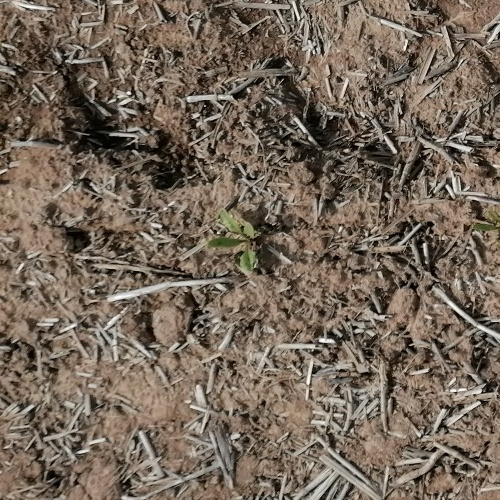beet: (210, 210, 265, 279)
